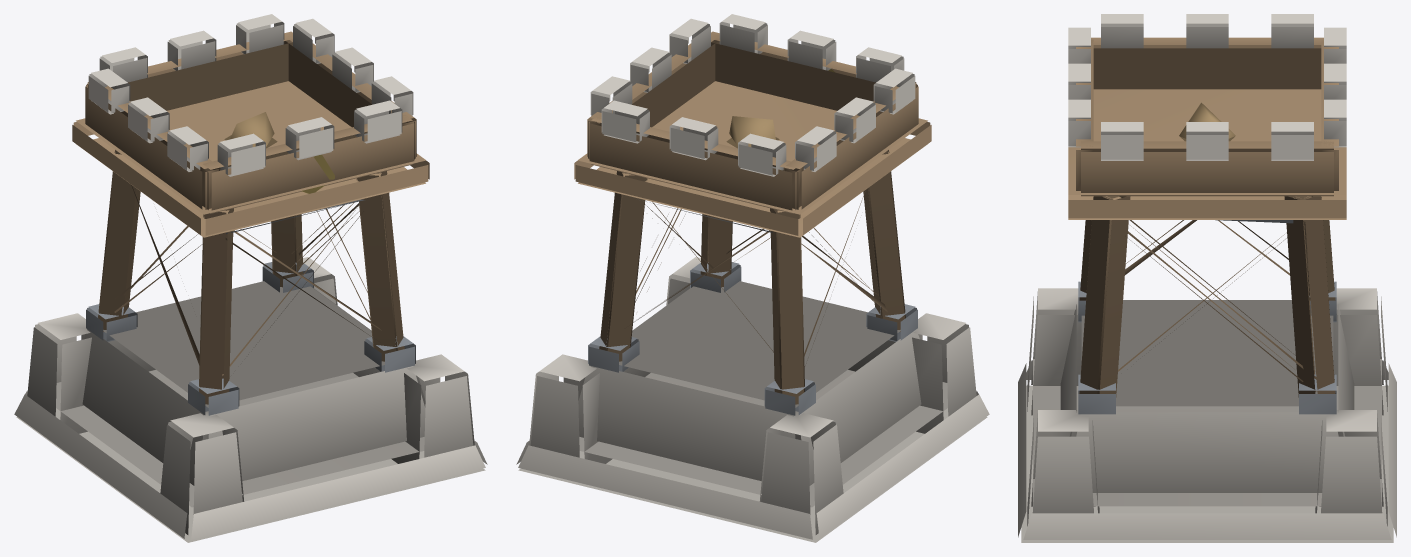
The model's file is quill_archer_spire_lod2.glb.
The picture shows the model from 3 angles, left to right: view 1: azimuth 30°, elevation 25°; view 2: azimuth 150°, elevation 25°; view 3: azimuth 270°, elevation 25°; orthographic projection. The views are drawn at different scales.
Visible parts, largest first — view 1: quill_archer_spire.001; view 2: quill_archer_spire.001; view 3: quill_archer_spire.001.
Part boxes in pixels (box(x1,y1,x2,y2)): quill_archer_spire.001: box(14, 14, 487, 542); quill_archer_spire.001: box(516, 14, 989, 542); quill_archer_spire.001: box(1018, 14, 1396, 542).
Size of the model in its own units: 3.03 by 3.45 by 3.03.
